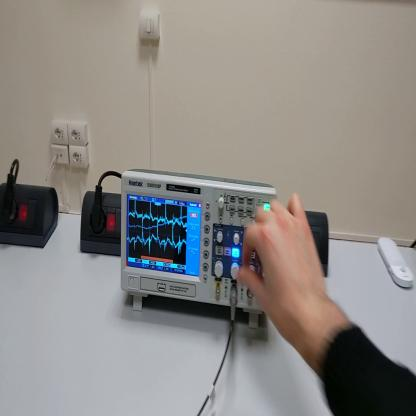hand: (237, 192, 329, 347)
oscilloscope: (121, 168, 279, 331)
socket: (1, 181, 61, 249), (81, 189, 121, 256)
